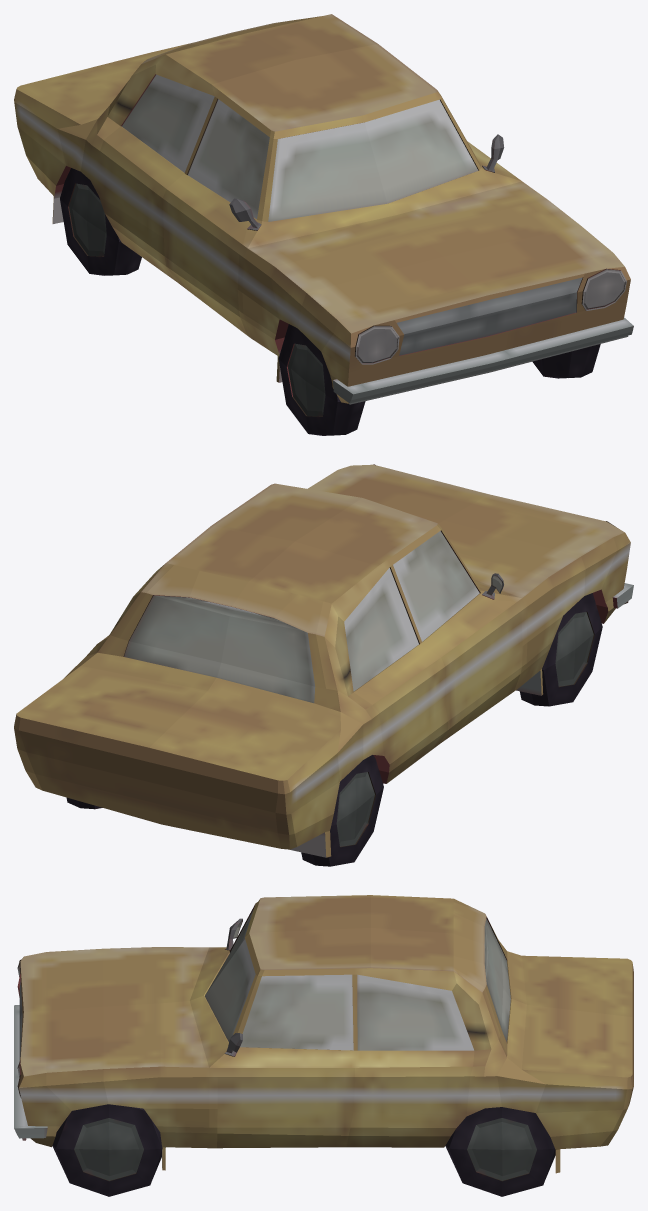
Rendered from Car1.fbx.
3 views of the same model, one above another, from view 1: azimuth 30°, elevation 25°; view 2: azimuth 150°, elevation 25°; view 3: azimuth 270°, elevation 25° (orthographic). The views are drawn at different scales.
Visible parts, largest first — view 1: Car1; view 2: Car1; view 3: Car1.
Boxes of the visible parts, box(x1,y1,x2,y2) form: Car1: box(14, 14, 633, 435); Car1: box(14, 464, 633, 866); Car1: box(14, 895, 633, 1196).
Bounding box in the file's own units: 206 × 166 × 430.
Materials: 1 (1 with a texture image).
